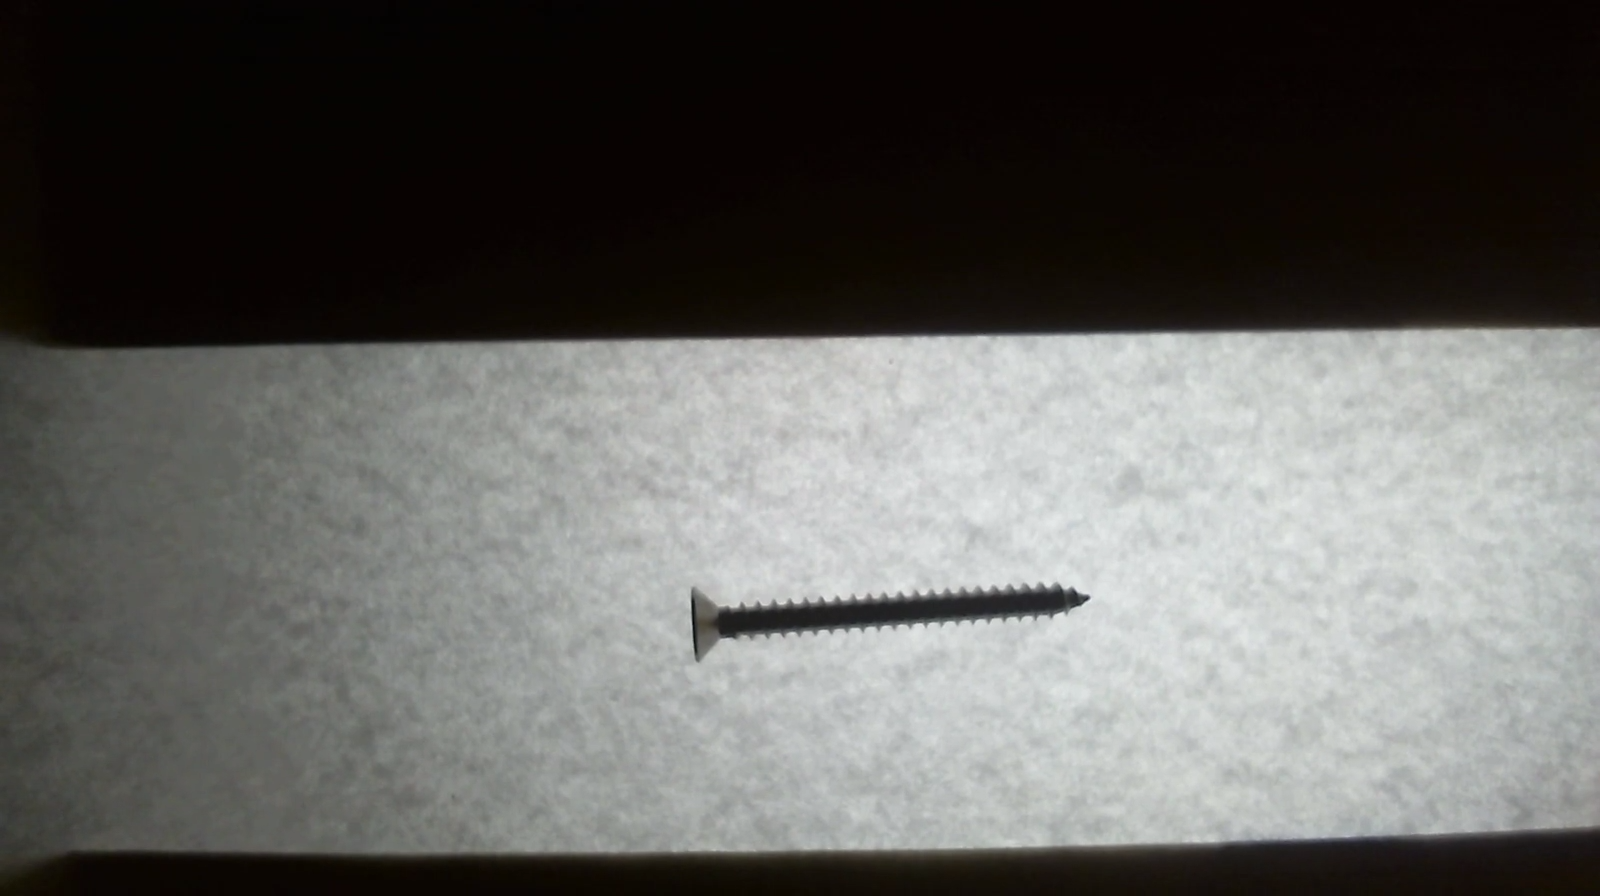S002: (658, 551, 1112, 673)
